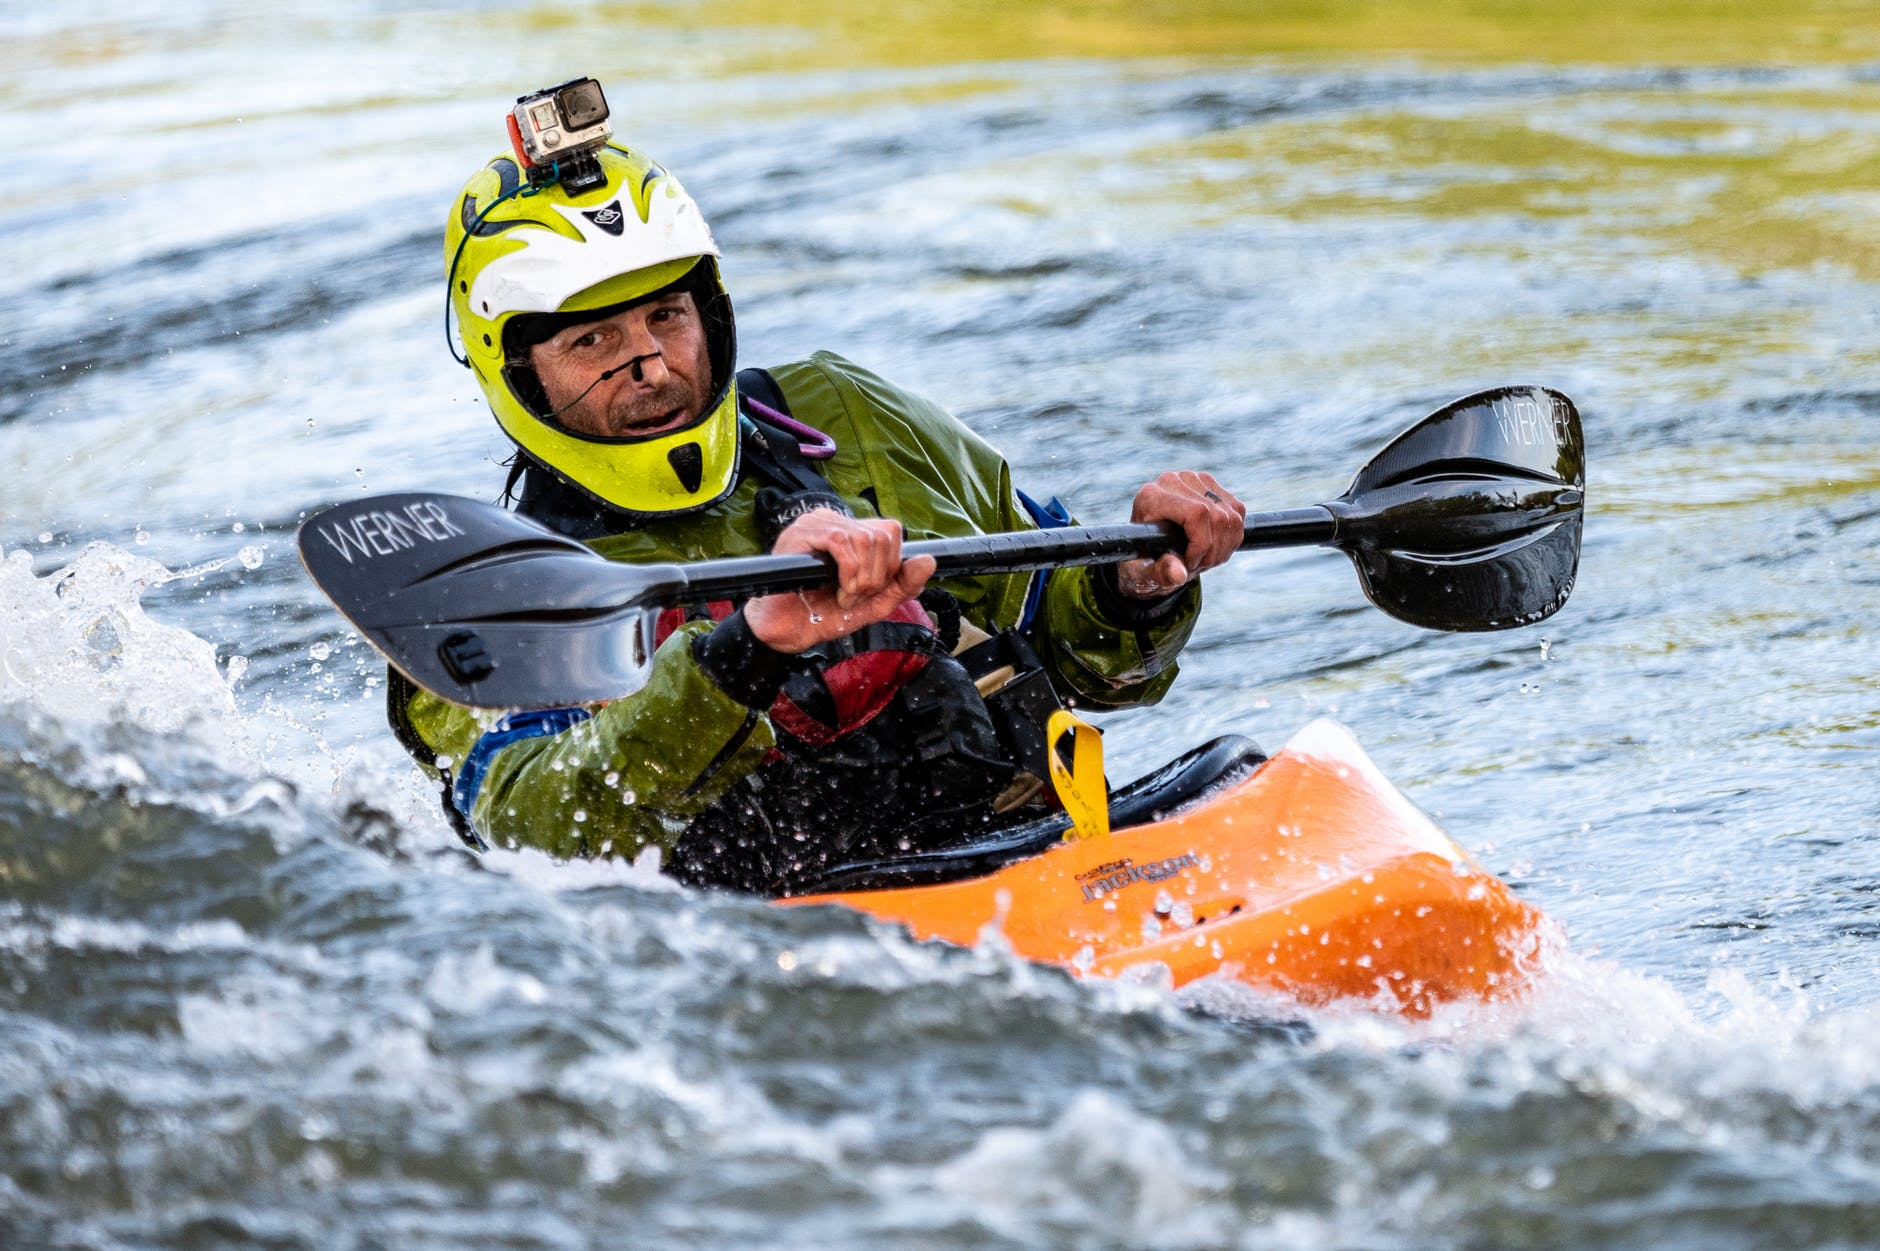helmet: (447, 133, 770, 514)
